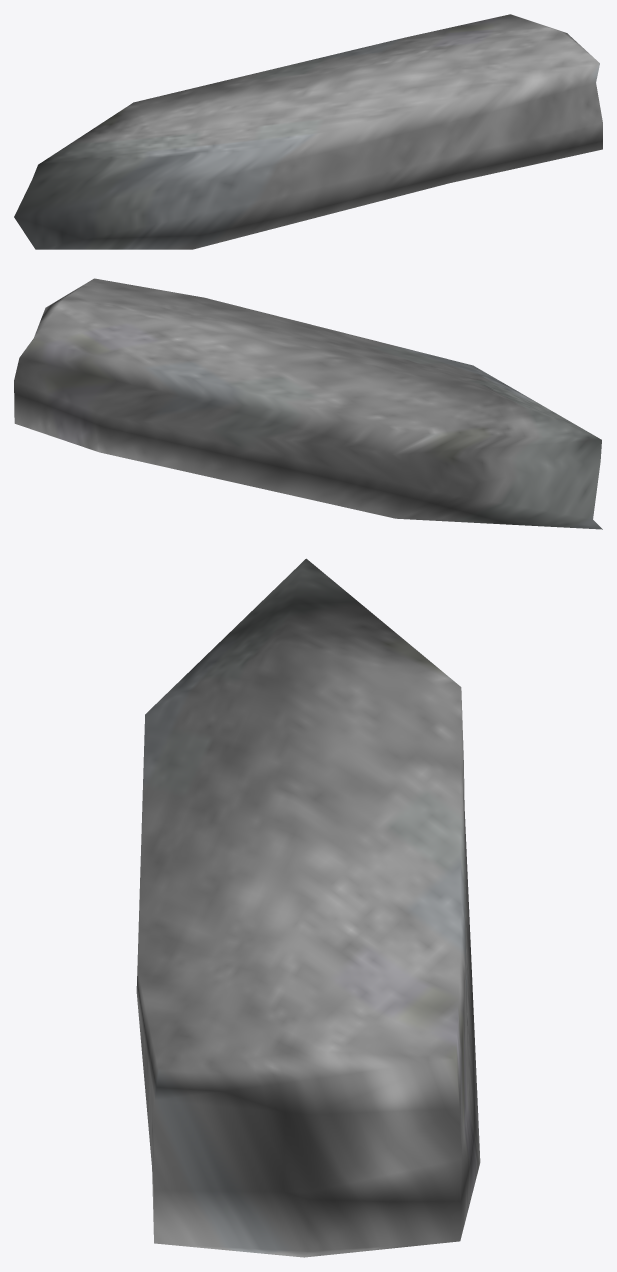
The model's file is stoneA_lr.obj.
3 views of the same model, one above another, from view 1: azimuth 30°, elevation 25°; view 2: azimuth 150°, elevation 25°; view 3: azimuth 270°, elevation 25° (orthographic). The views are drawn at different scales.
Size of the model in its own units: 1.99 by 0.3738 by 0.5449.
1 material, 1 textured.
